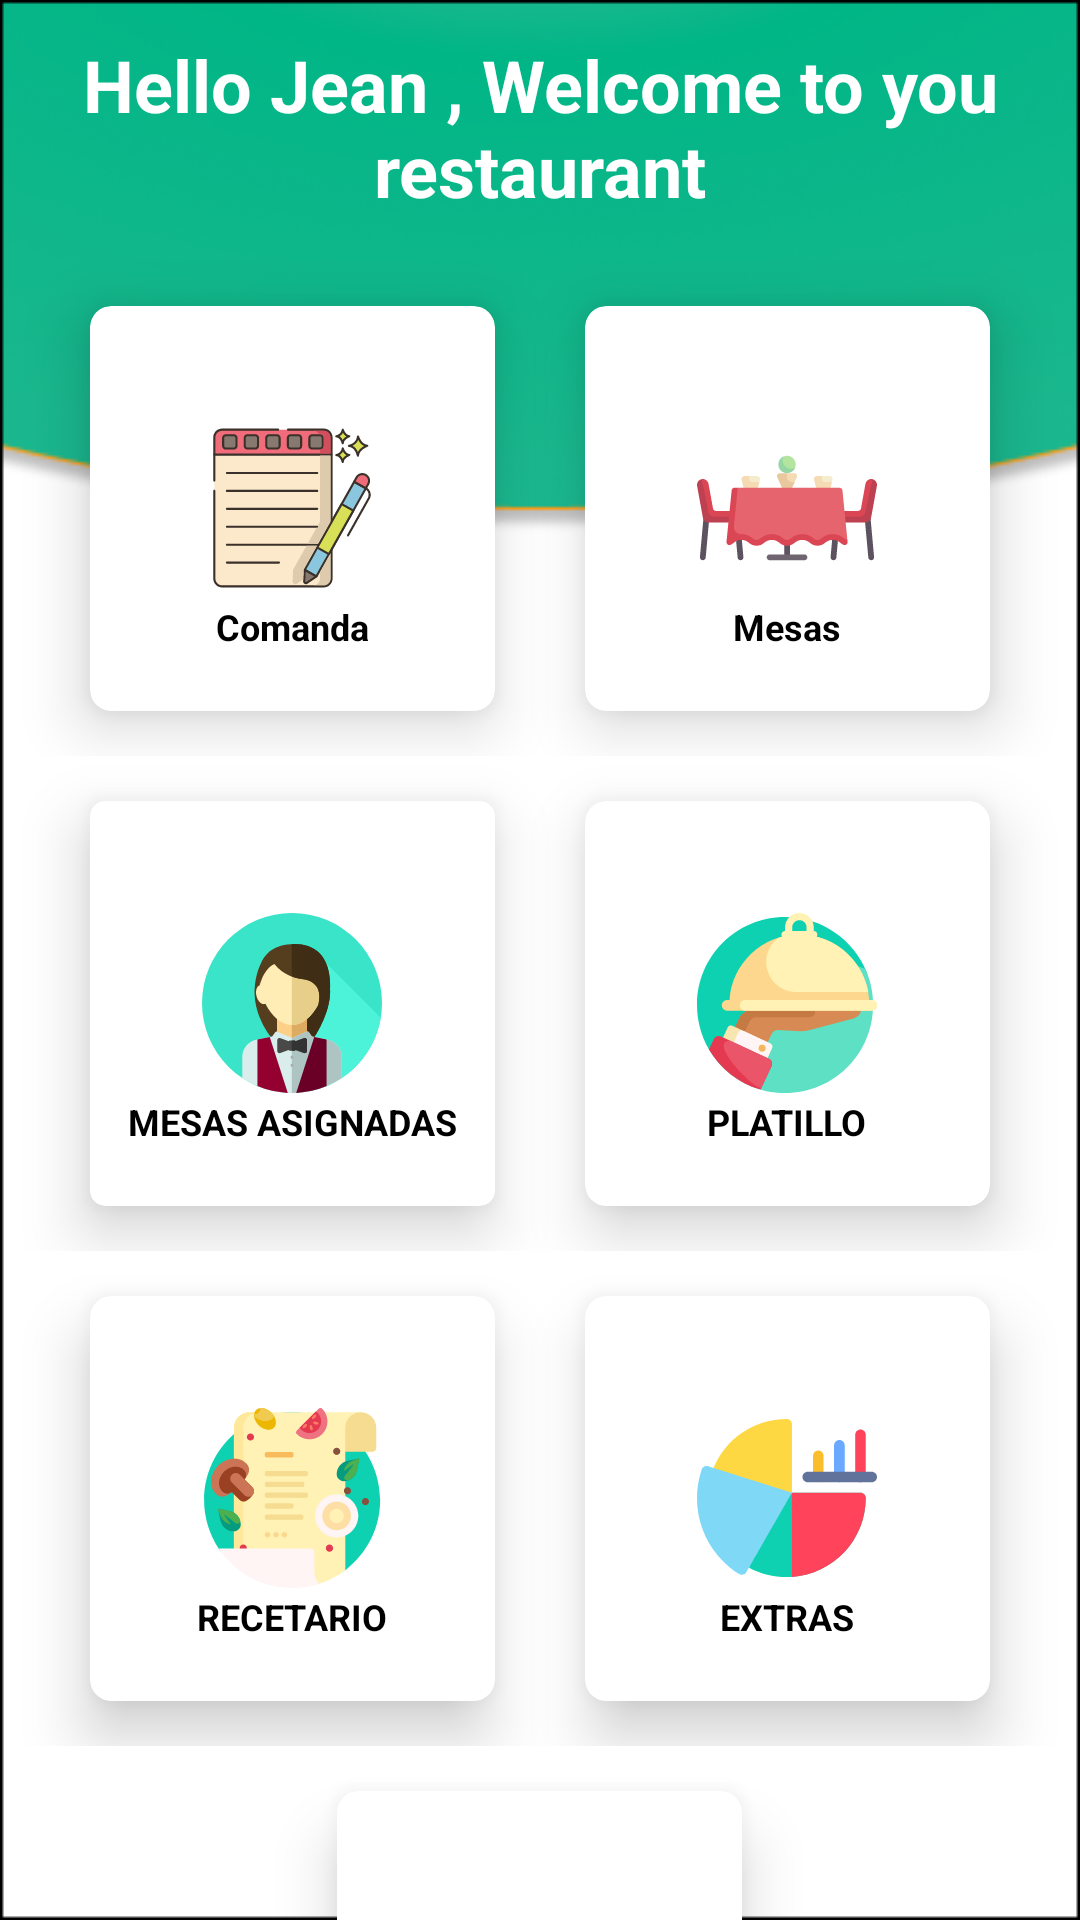

Locate icon controls on the screen. Image size 1080w x 1920h, boxes as [x1,y1,x2,y2].
grafico: [697,1419,877,1577]
guion: [213,428,371,588]
mesero: [202,913,382,1093]
